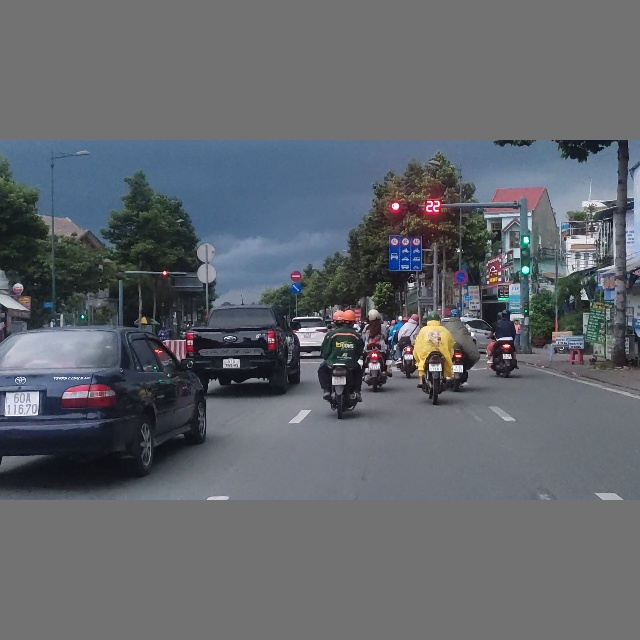P.102: (291, 271, 302, 282)
P.127*60: (390, 237, 399, 246), (413, 237, 421, 246), (401, 237, 409, 245)
P.131a: (453, 270, 468, 285)
R.302a: (291, 283, 302, 294)
R.415a: (389, 246, 422, 270)
